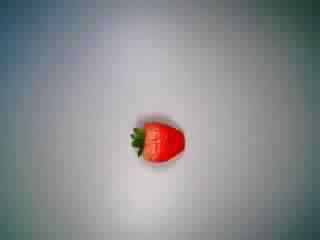strawberry: (122, 107, 190, 171)
